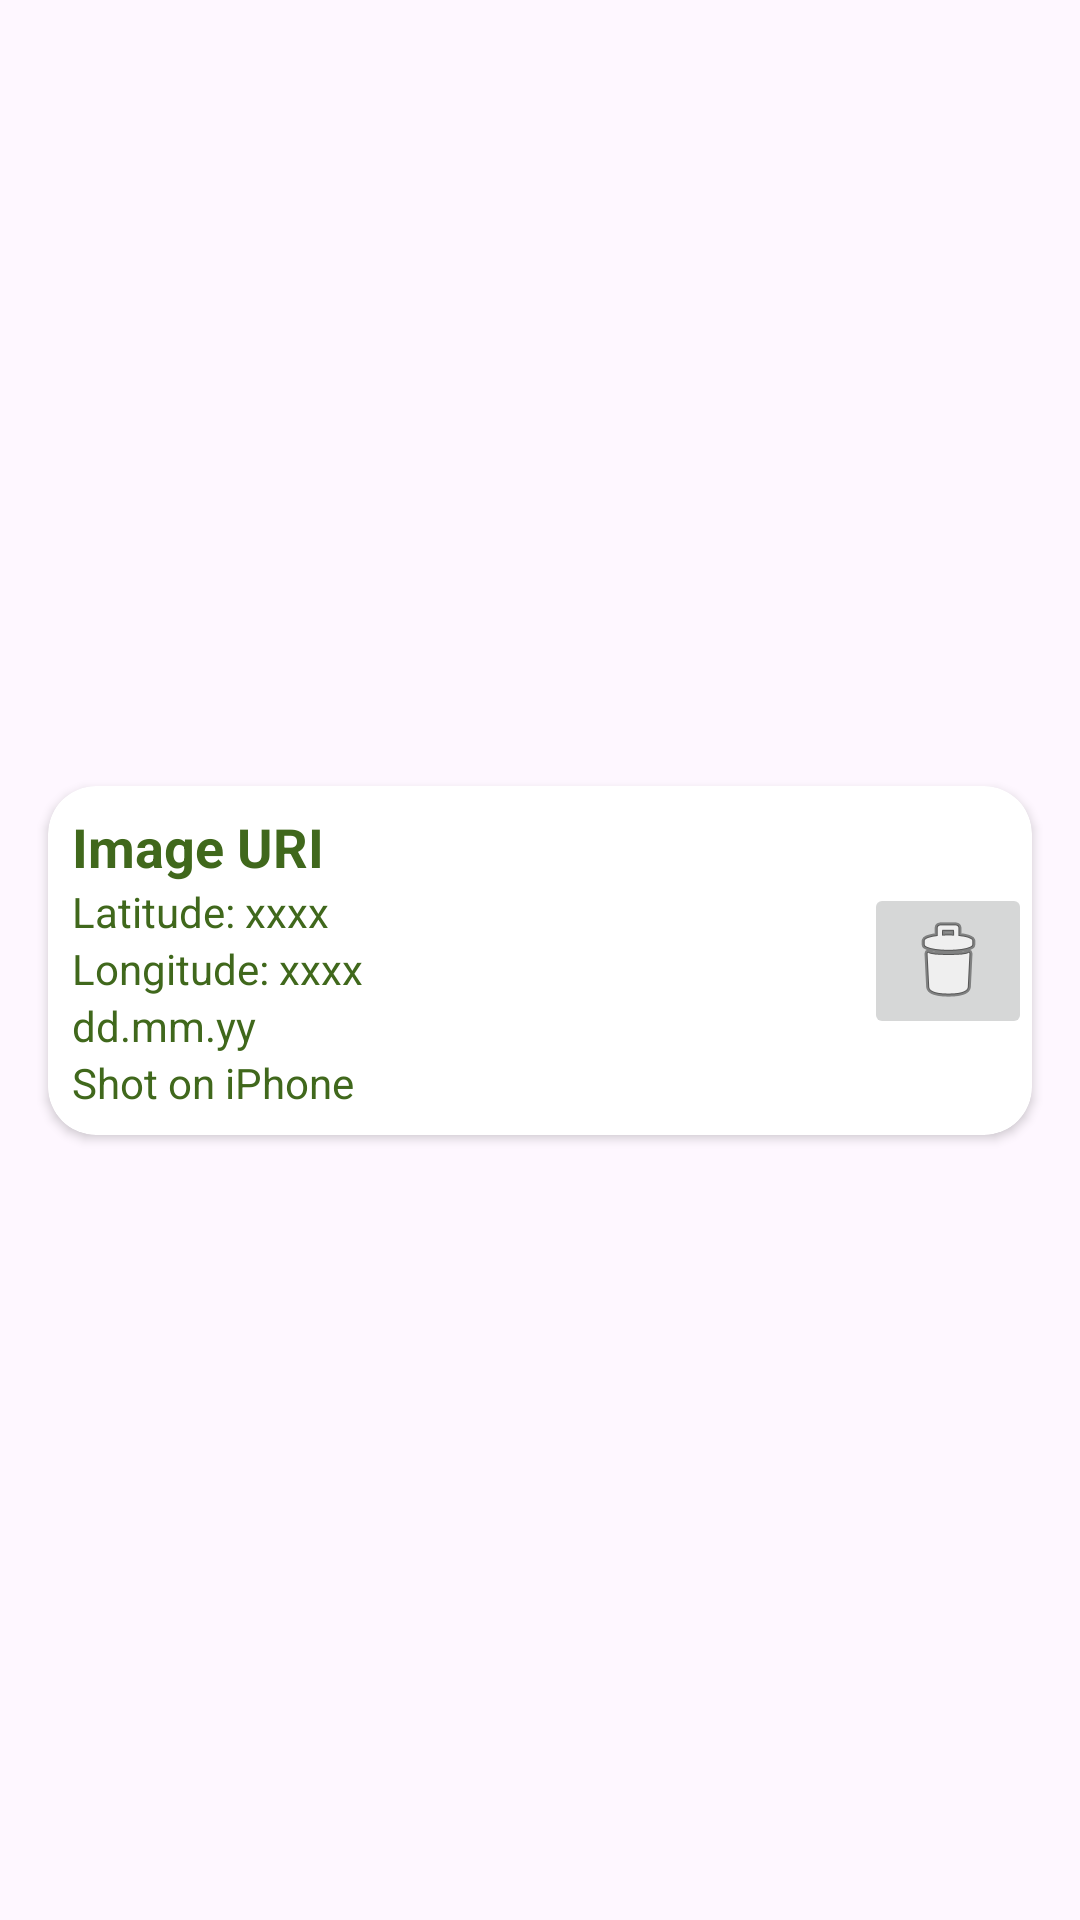

Icon click points for this 1080 × 1920 phone screenshot, format point (x, y):
delete: point (948, 961)
